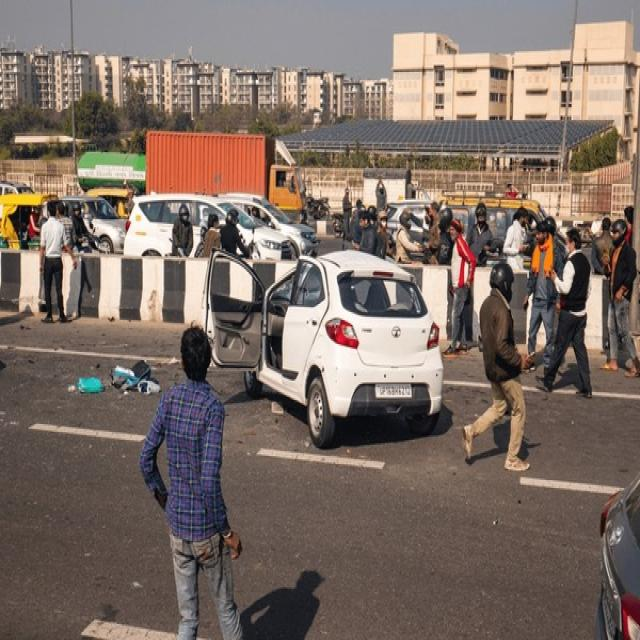accident: (205, 251, 442, 448)
car: (124, 193, 291, 260)
truck: (146, 131, 306, 217)
